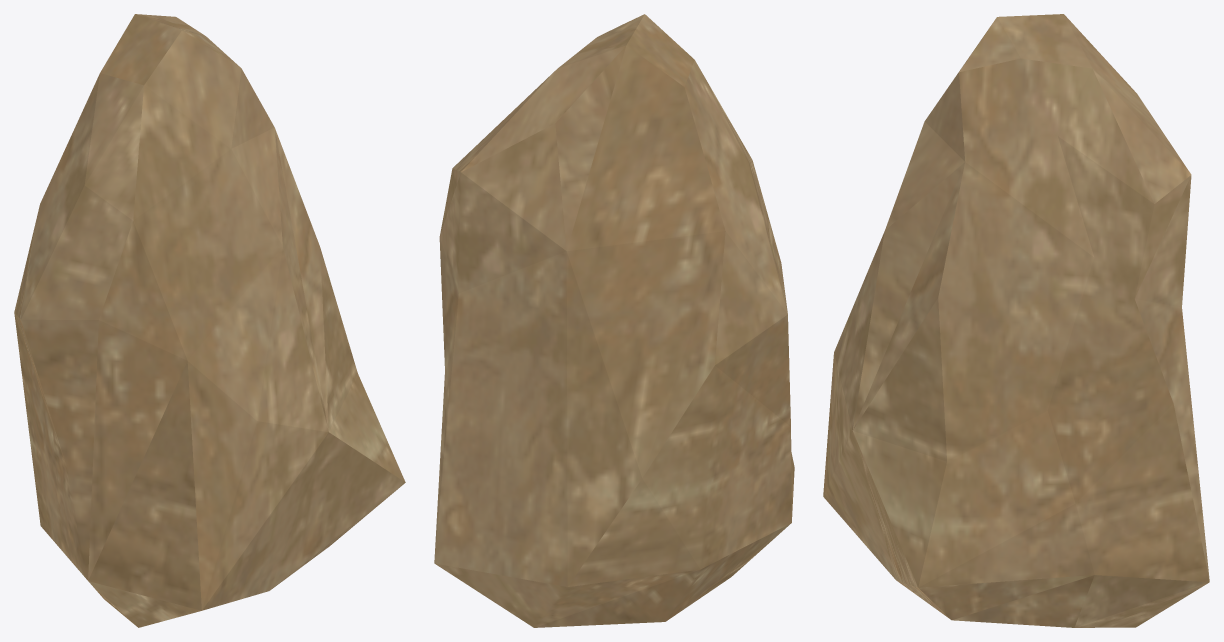
The picture shows the model from 3 angles, left to right: view 1: azimuth 30°, elevation 25°; view 2: azimuth 150°, elevation 25°; view 3: azimuth 270°, elevation 25°; orthographic projection. The views are drawn at different scales.
Visible parts, largest first — view 1: rock; view 2: rock; view 3: rock.
Part boxes in pixels (x1,y1,x2,y2): rock: [14, 14, 405, 627]; rock: [434, 14, 794, 627]; rock: [823, 14, 1209, 627].
Size of the model in its own units: 160 by 262 by 156.
1 material, 1 textured.
